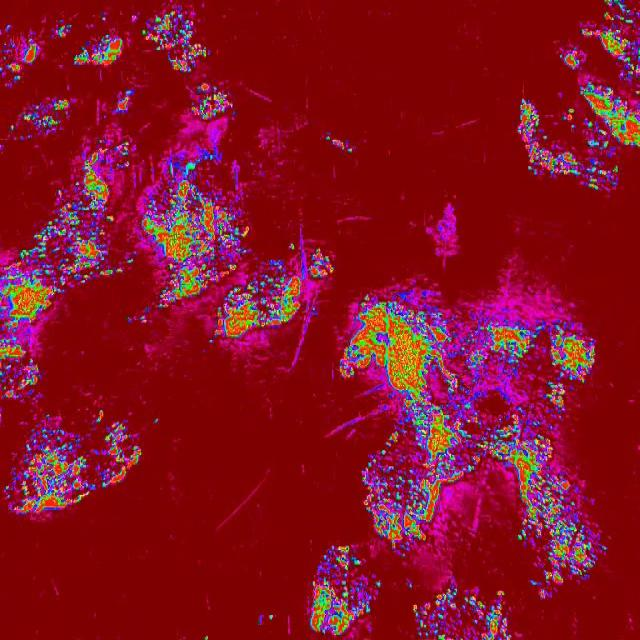fire: (338, 294, 595, 540), (517, 0, 640, 192), (138, 149, 253, 306), (4, 411, 140, 518), (51, 137, 138, 297), (0, 249, 50, 402), (310, 545, 383, 640), (410, 582, 516, 640), (530, 543, 608, 602), (136, 10, 212, 70), (206, 304, 298, 344), (6, 97, 72, 142), (0, 20, 42, 86), (253, 254, 300, 302), (68, 32, 130, 67), (191, 81, 232, 123), (323, 129, 358, 156), (108, 86, 136, 116), (309, 248, 335, 278), (50, 15, 76, 39), (32, 219, 52, 247), (390, 542, 420, 558), (256, 610, 274, 626), (136, 310, 148, 326), (96, 9, 108, 23), (312, 304, 320, 318), (287, 243, 298, 251), (202, 632, 212, 640), (124, 314, 132, 324), (154, 416, 160, 424)
